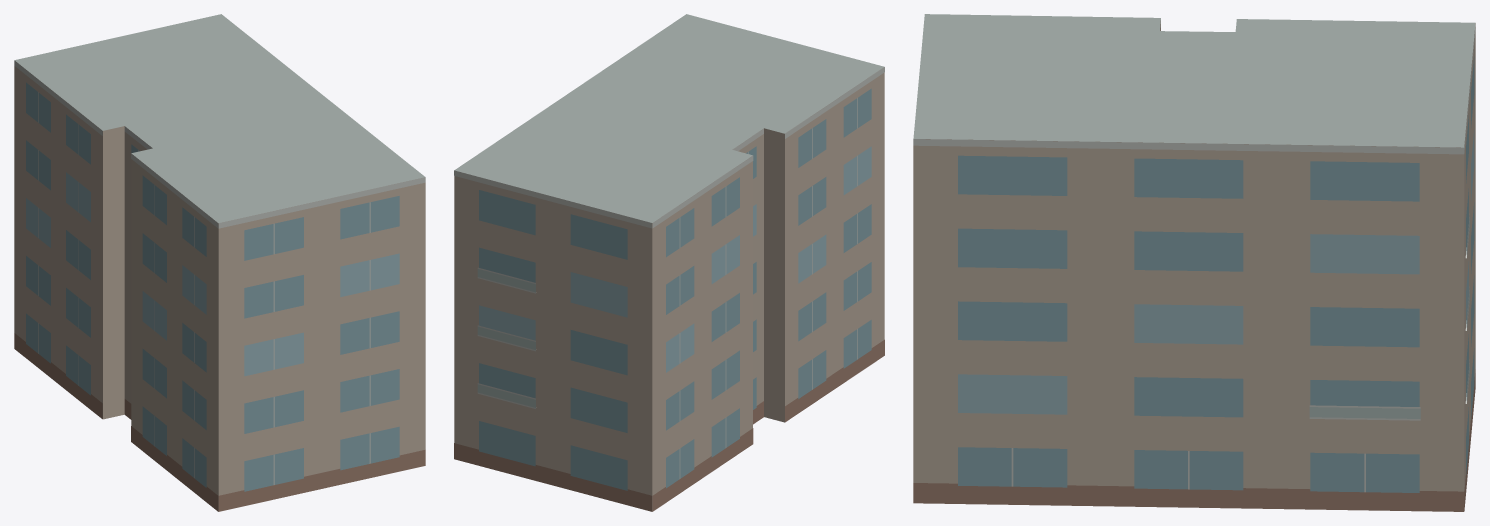
File: survey-upis-32928308.glb
3 views of the same model, side by side, from view 1: azimuth 30°, elevation 25°; view 2: azimuth 150°, elevation 25°; view 3: azimuth 270°, elevation 25° (orthographic). The views are drawn at different scales.
Parts seen in each view (by area): view 1: survey-upis-32928308.tmp; view 2: survey-upis-32928308.tmp; view 3: survey-upis-32928308.tmp.
Part boxes in pixels (box(x1,y1,x2,y2)): survey-upis-32928308.tmp: box(14, 14, 425, 511); survey-upis-32928308.tmp: box(454, 14, 884, 511); survey-upis-32928308.tmp: box(913, 14, 1475, 511).
Size of the model in its own units: 10.15 by 12.9 by 18.05.
